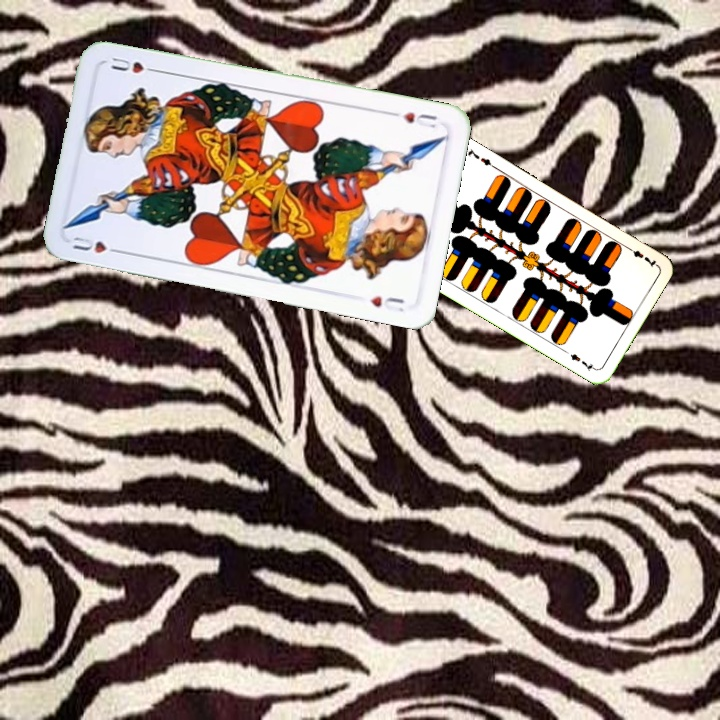E7: (622, 243, 659, 269)
HU: (68, 232, 125, 256), (387, 108, 439, 131)
